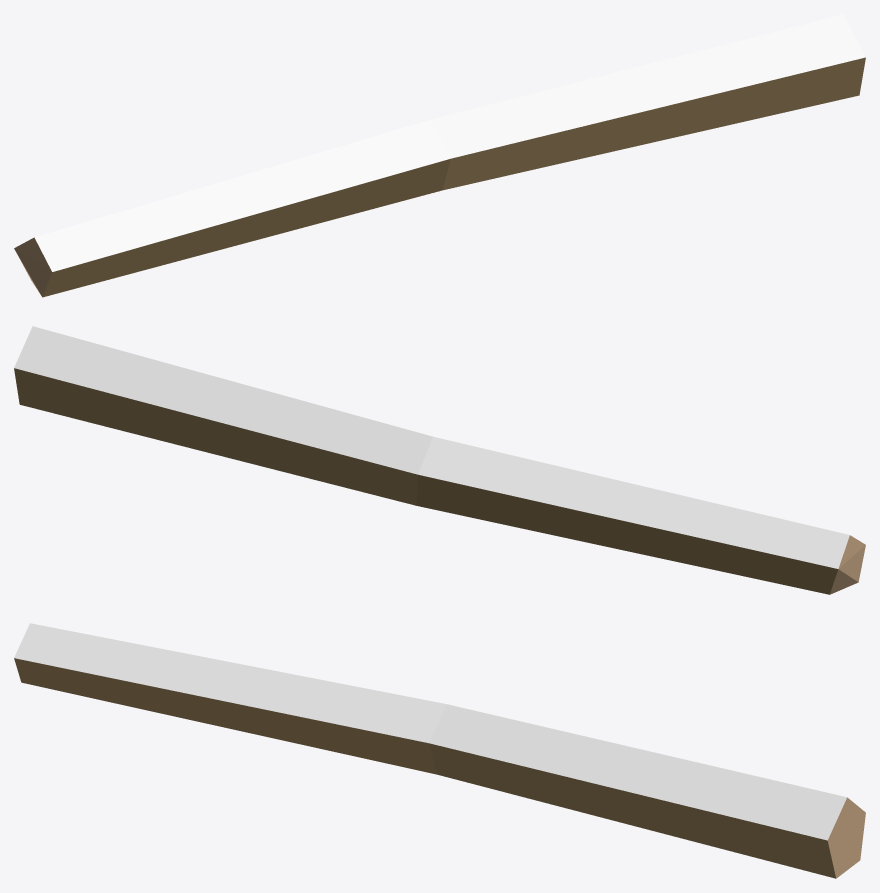
The model's file is Acacia_Log_Snow_01.fbx.
The picture shows the model from 3 angles, top to bottom: view 1: azimuth 30°, elevation 25°; view 2: azimuth 150°, elevation 25°; view 3: azimuth 330°, elevation 25°; orthographic projection.
Visible parts, largest first — view 1: Acacia_Log_Snow_01; view 2: Acacia_Log_Snow_01; view 3: Acacia_Log_Snow_01.
Part boxes in pixels (bbox=[...]): Acacia_Log_Snow_01: bbox=[14, 14, 865, 297]; Acacia_Log_Snow_01: bbox=[14, 326, 865, 594]; Acacia_Log_Snow_01: bbox=[14, 623, 865, 878].
Size of the model in its own units: 341 by 28.36 by 33.54.
